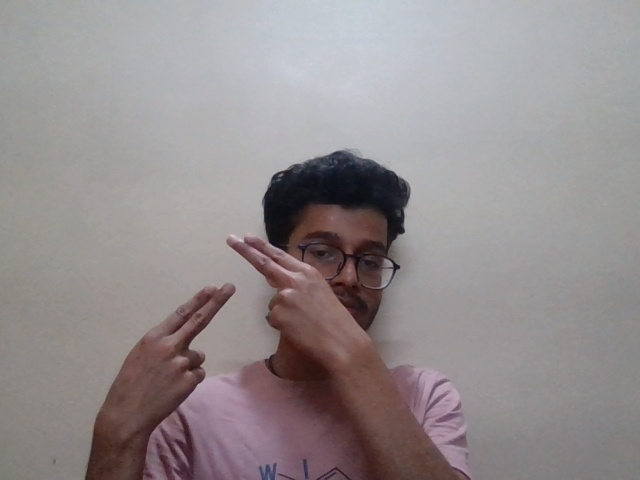my-name-is: (124, 228, 394, 415)
